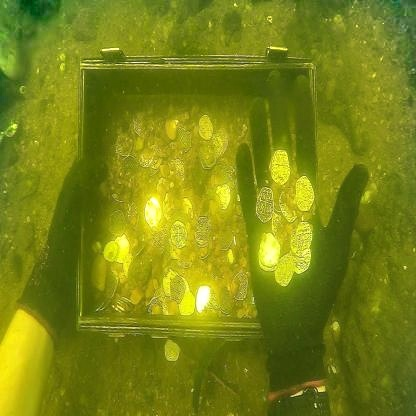metal: (91, 96, 237, 311), (255, 146, 317, 288)
